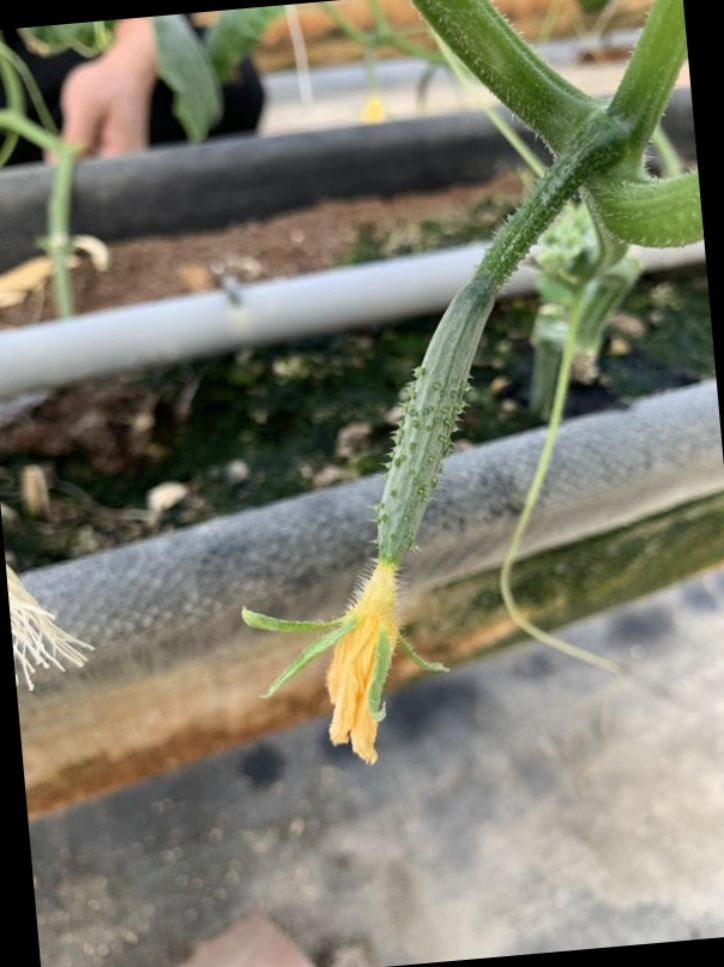bear: (246, 229, 543, 775)
